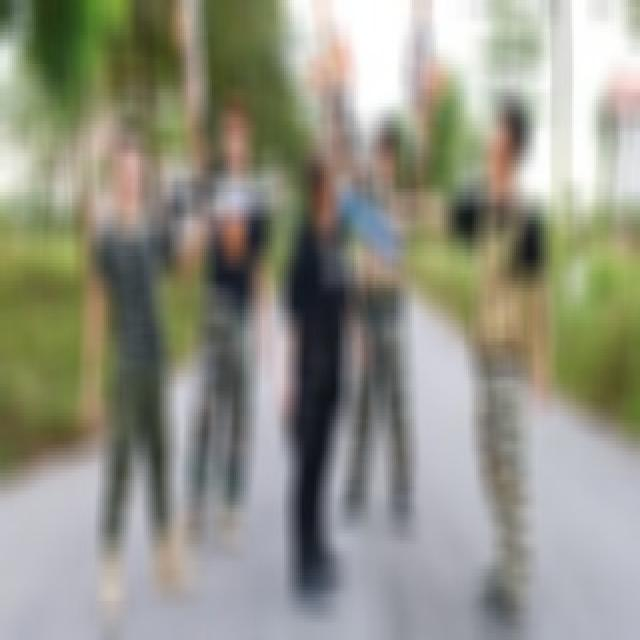Nerf gun: (154, 166, 294, 254), (304, 0, 364, 164), (394, 0, 450, 171), (328, 169, 408, 258), (166, 4, 206, 124)
